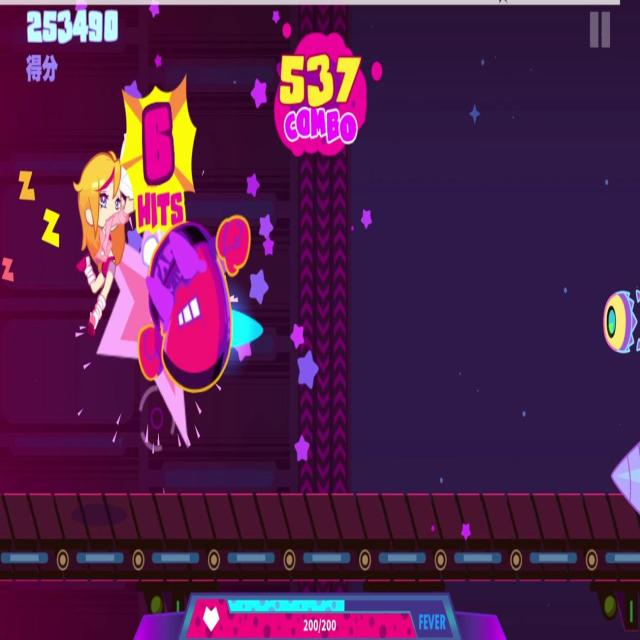tapboss: (136, 217, 254, 386)
